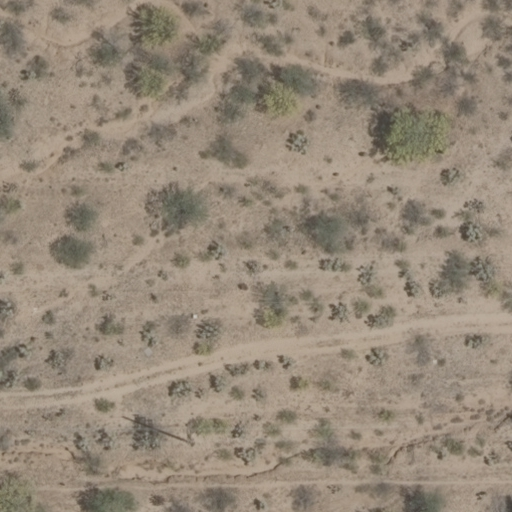DT: (175, 416, 200, 449)
